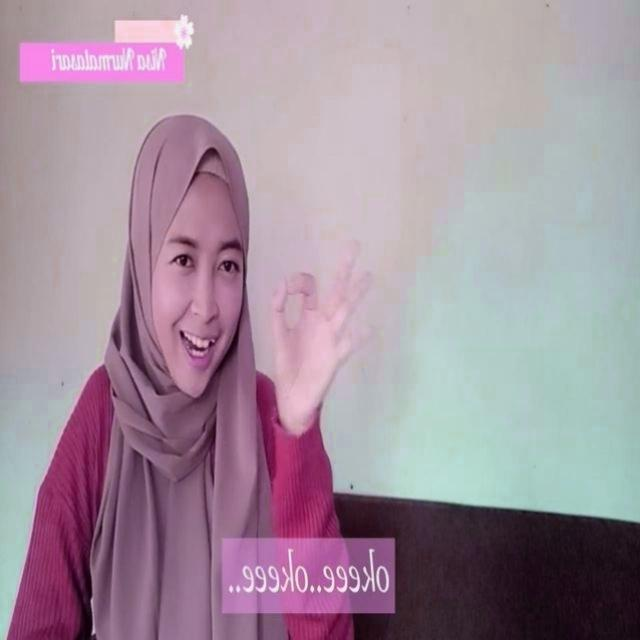O: (262, 233, 379, 393)
